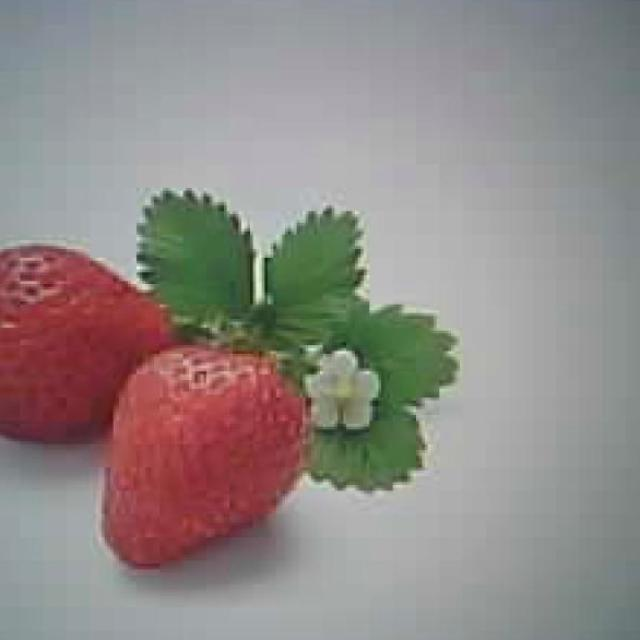Healthy Fruit: (100, 342, 311, 568), (0, 242, 177, 443)
